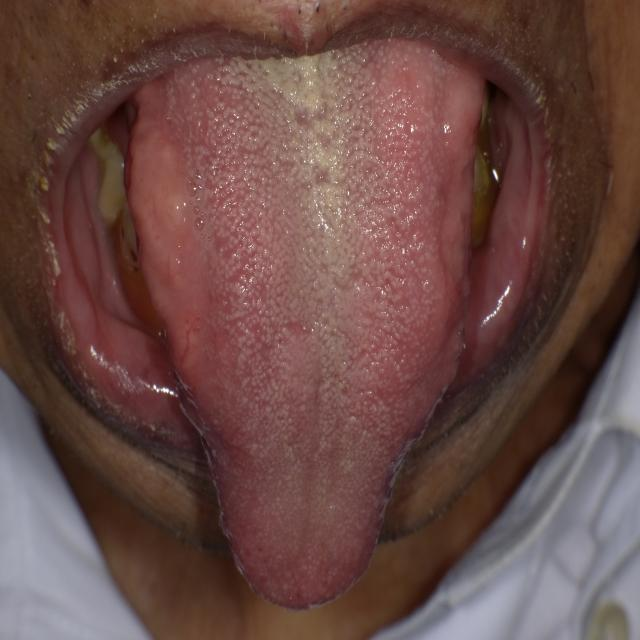gandanao: (125, 61, 254, 489)
huangtaishe: (123, 36, 486, 610)
